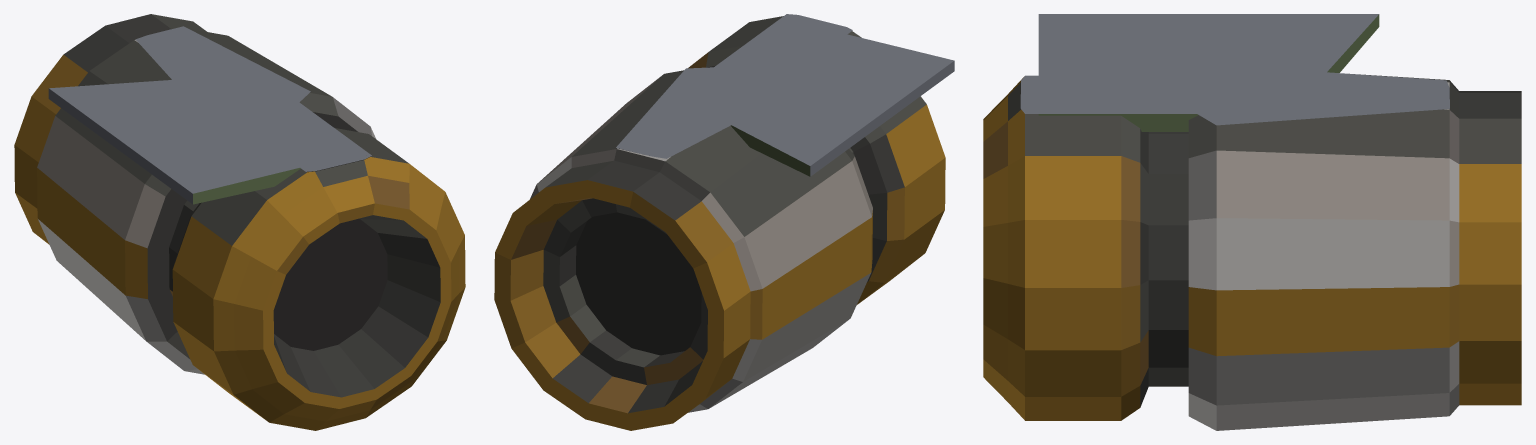
Rendered from engine_lower_starboard.glb.
3 renders of one model, left to right at view 1: azimuth 30°, elevation 25°; view 2: azimuth 150°, elevation 25°; view 3: azimuth 270°, elevation 25°, orthographic. The views are drawn at different scales.
Bounding box in the file's own units: 0.7809 × 0.7327 × 1.12.
